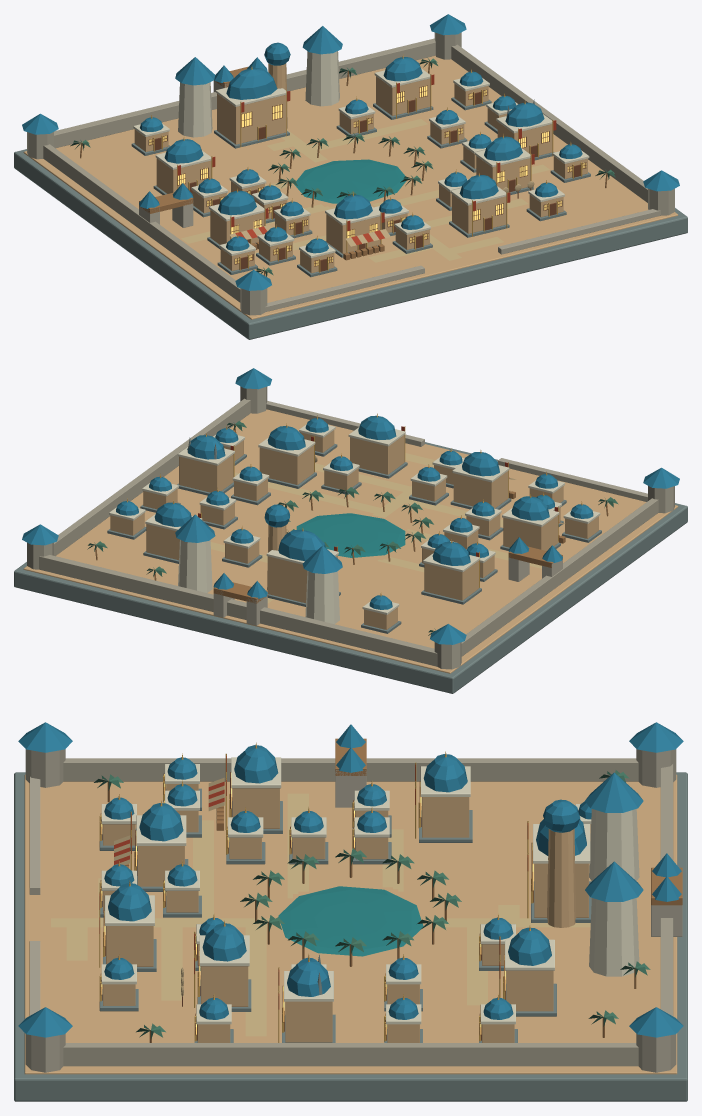
The model's file is starwell.glb.
The picture shows the model from 3 angles, top to bottom: view 1: azimuth 30°, elevation 25°; view 2: azimuth 150°, elevation 25°; view 3: azimuth 270°, elevation 25°; orthographic projection. The views are drawn at different scales.
Parts seen in each view (by area): view 1: Terrain foundation geometry, Defensive perimeter geometry, Streets and courtyards geometry, adventurerGuild geometry, Town identity landmarks geometry, itemShop geometry, bookstore geometry, home geometry, tavern geometry, trainingGround geometry, inn geometry, equipmentShop geometry (+21 smaller); view 2: Terrain foundation geometry, Defensive perimeter geometry, Streets and courtyards geometry, Town identity landmarks geometry, adventurerGuild geometry, inn geometry, trainingGround geometry, home geometry, equipmentShop geometry, itemShop geometry, tavern geometry, bookstore geometry (+19 smaller); view 3: Terrain foundation geometry, Defensive perimeter geometry, Streets and courtyards geometry, Town identity landmarks geometry, adventurerGuild geometry, inn geometry, tavern geometry, bookstore geometry, trainingGround geometry, equipmentShop geometry, itemShop geometry, home geometry (+18 smaller).
Boxes of the visible parts, x1,y1,x2,y2 form: Terrain foundation geometry: (14, 55, 687, 339); Defensive perimeter geometry: (22, 14, 679, 315); Streets and courtyards geometry: (181, 119, 549, 262); adventurerGuild geometry: (214, 42, 290, 148); Town identity landmarks geometry: (175, 26, 342, 137); itemShop geometry: (325, 192, 390, 260); bookstore geometry: (373, 54, 434, 119); home geometry: (449, 172, 510, 237); tavern geometry: (207, 188, 271, 249); trainingGround geometry: (475, 134, 534, 198); inn geometry: (153, 137, 215, 194); equipmentShop geometry: (496, 99, 556, 160); Terrain foundation geometry: (14, 409, 687, 693); Defensive perimeter geometry: (22, 368, 679, 669); Streets and courtyards geometry: (210, 453, 541, 603); Town identity landmarks geometry: (175, 514, 342, 624); adventurerGuild geometry: (264, 504, 340, 606); inn geometry: (421, 539, 481, 604); trainingGround geometry: (258, 423, 317, 488); home geometry: (348, 413, 407, 478); equipmentShop geometry: (177, 433, 234, 495); itemShop geometry: (450, 450, 515, 509); tavern geometry: (500, 494, 565, 550); bookstore geometry: (143, 500, 202, 563); Terrain foundation geometry: (14, 772, 687, 1101); Defensive perimeter geometry: (18, 722, 683, 1072); Streets and courtyards geometry: (51, 793, 590, 1036); Town identity landmarks geometry: (585, 772, 643, 976); adventurerGuild geometry: (527, 799, 591, 927); inn geometry: (415, 751, 472, 842); tavern geometry: (208, 742, 282, 833); bookstore geometry: (499, 925, 556, 1016); trainingGround geometry: (181, 921, 251, 1011); equipmentShop geometry: (278, 954, 335, 1042); itemShop geometry: (114, 800, 188, 891); home geometry: (99, 880, 156, 971).
Size of the model in its own units: 69.2 by 15.45 by 64.
